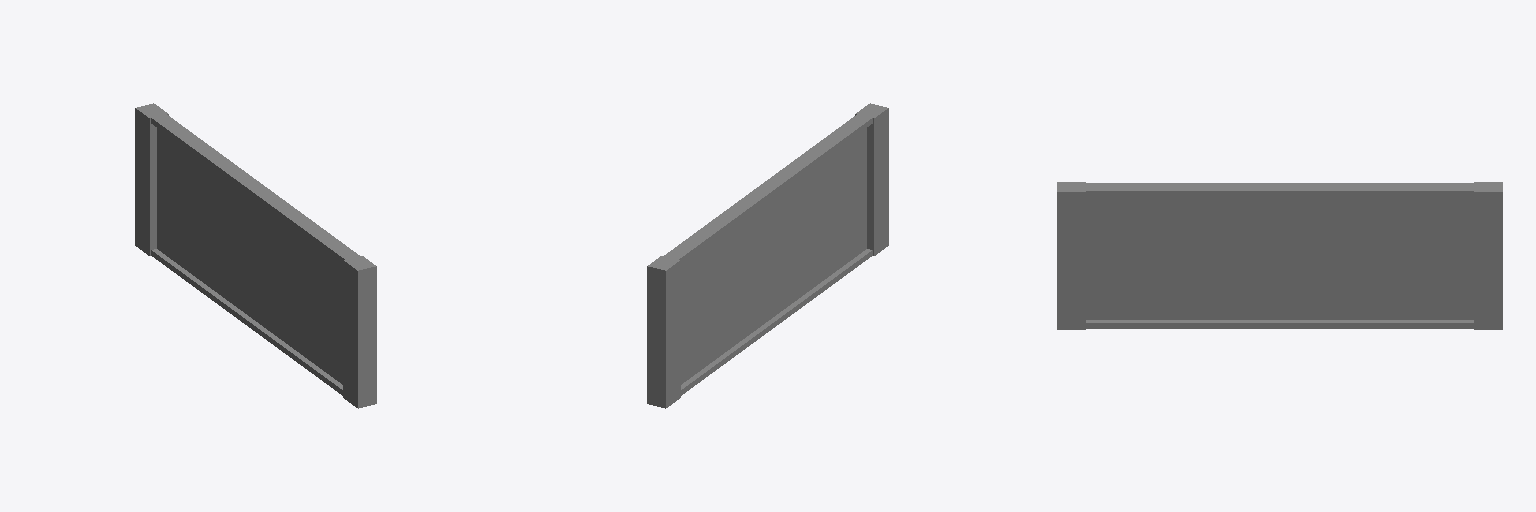
The model's file is Multimedia_door_topframe.obj.
3 renders of one model, left to right at view 1: azimuth 30°, elevation 25°; view 2: azimuth 150°, elevation 25°; view 3: azimuth 270°, elevation 25°, orthographic.
Parts seen in each view (by area): view 1: ?????????; view 2: ?????????; view 3: ?????????.
Boxes of the visible parts, box(x1,y1,x2,y2) form: ?????????: box(135, 103, 376, 408); ?????????: box(647, 103, 888, 408); ?????????: box(1057, 182, 1502, 329).
Bounding box in the file's own units: 0.0902 × 0.6291 × 1.84.